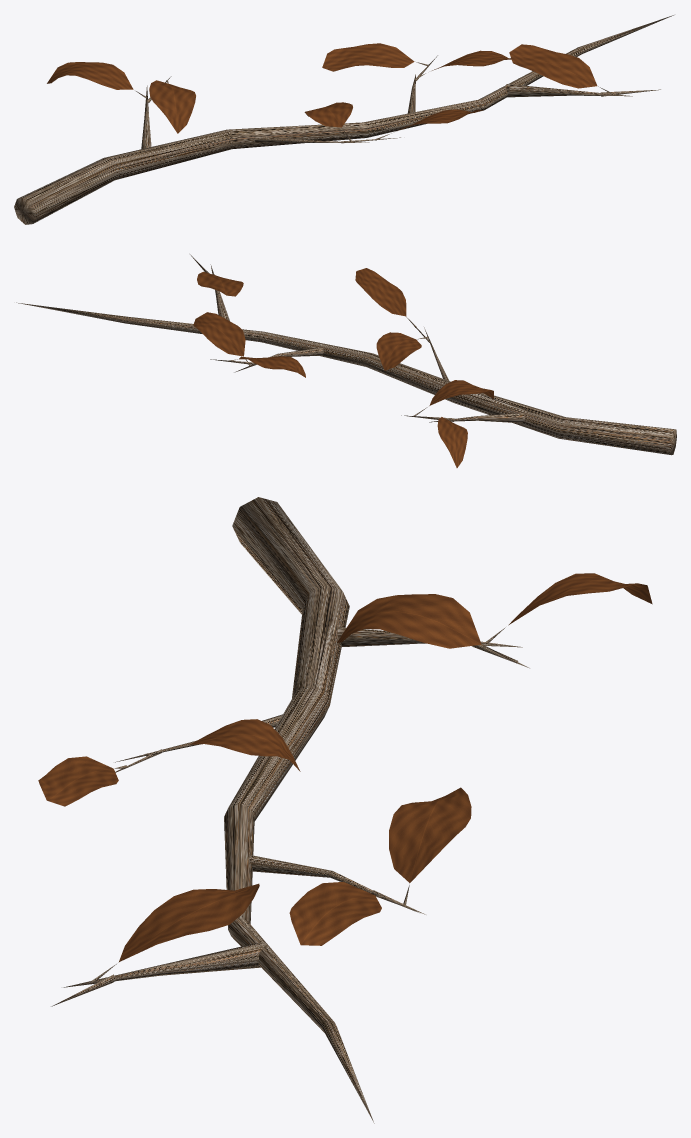
File: fallen-leafy-twig.glb
The picture shows the model from 3 angles, top to bottom: view 1: azimuth 30°, elevation 25°; view 2: azimuth 150°, elevation 25°; view 3: azimuth 270°, elevation 25°; orthographic projection. The views are drawn at different scales.
Parts seen in each view (by area): view 1: leafy-twig; view 2: leafy-twig; view 3: leafy-twig.
Part boxes in pixels (left/top/right/bottom): leafy-twig: left=14, top=15, right=673, bottom=224; leafy-twig: left=16, top=254, right=676, bottom=467; leafy-twig: left=38, top=497, right=652, bottom=1123.
Size of the model in its own units: 0.6335 by 0.0558 by 0.2656.
2 materials, 2 textured.
